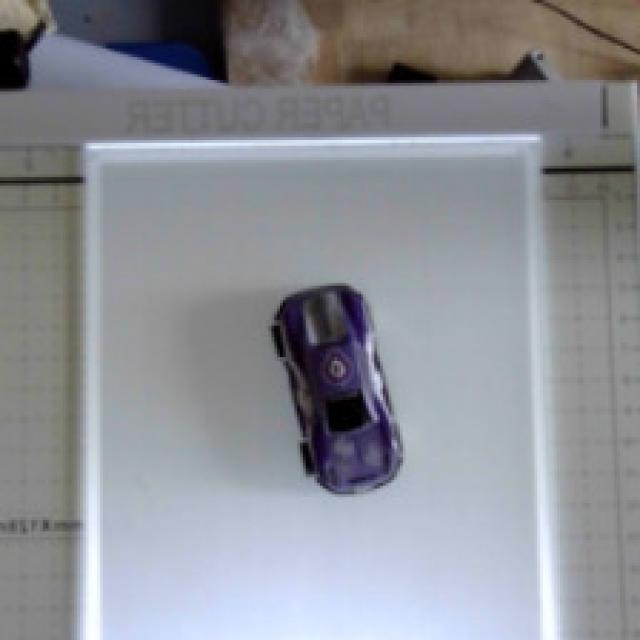Purple Car: (214, 233, 432, 513)
